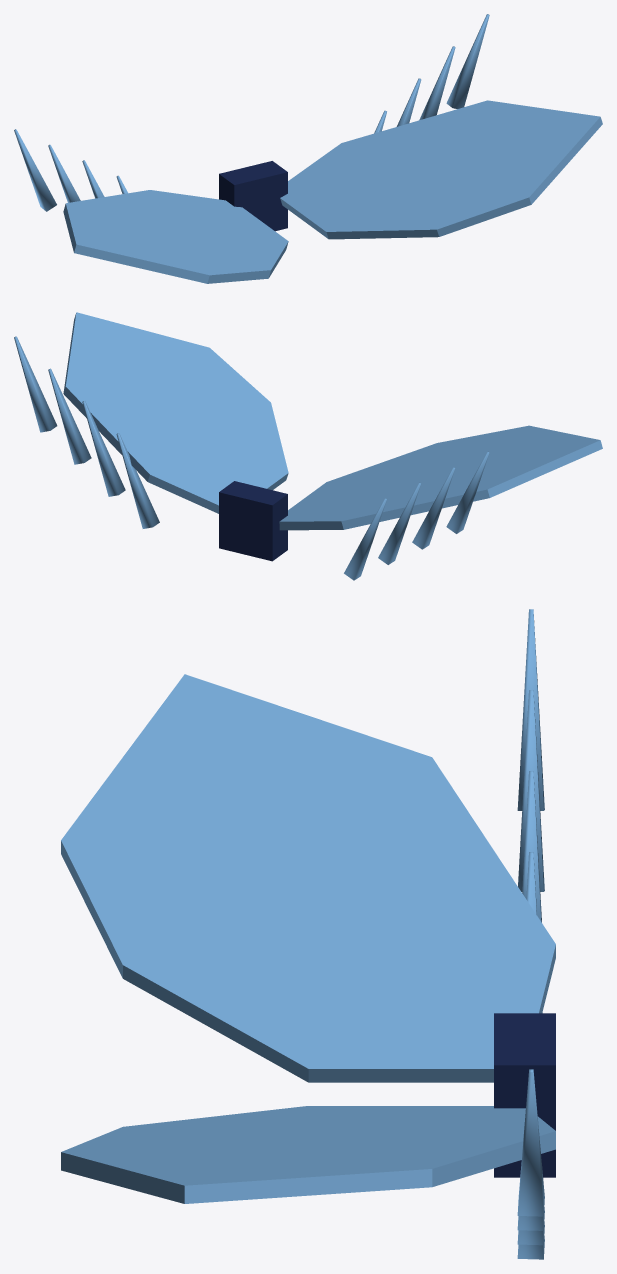
File: stardust_wings.glb
The picture shows the model from 3 angles, top to bottom: view 1: azimuth 30°, elevation 25°; view 2: azimuth 150°, elevation 25°; view 3: azimuth 270°, elevation 25°; orthographic projection. The views are drawn at different scales.
Visible parts, largest first — view 1: stardust_wings_v0; view 2: stardust_wings_v0; view 3: stardust_wings_v0.
Boxes of the visible parts, x1,y1,x2,y2 form: stardust_wings_v0: (14,14,602,283); stardust_wings_v0: (14,312,602,580); stardust_wings_v0: (61,609,555,1259).
Bounding box in the file's own units: 0.7896 × 0.226 × 0.32.
